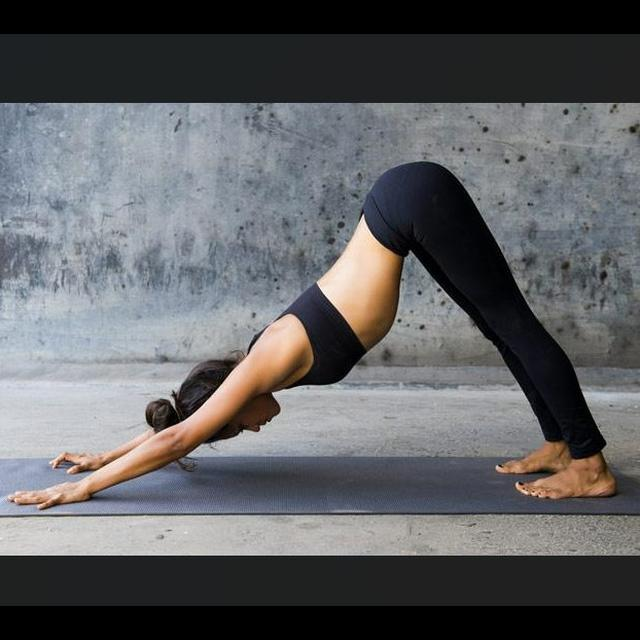Downward-Facing_Dog: (3, 155, 619, 507)
